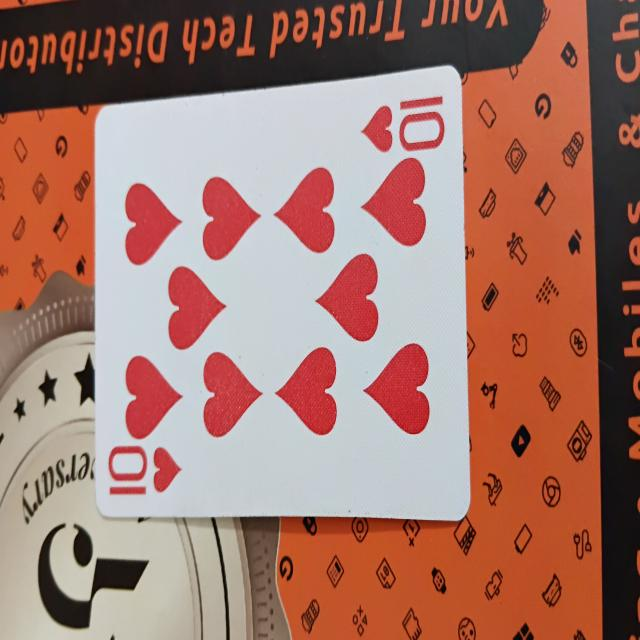10H: (92, 71, 470, 518)
